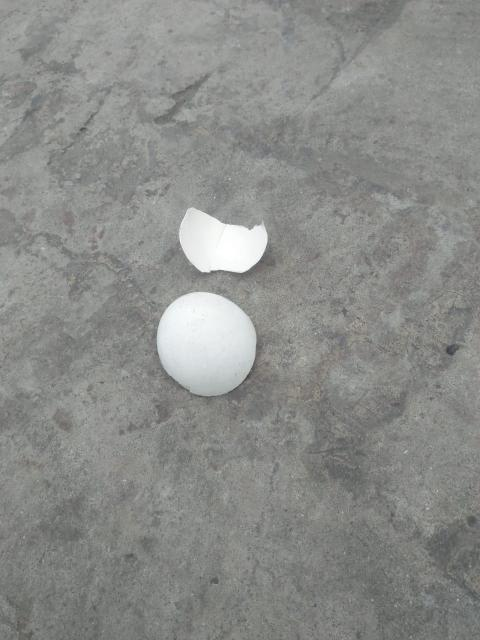Roto: (156, 290, 257, 397), (178, 206, 268, 274)
